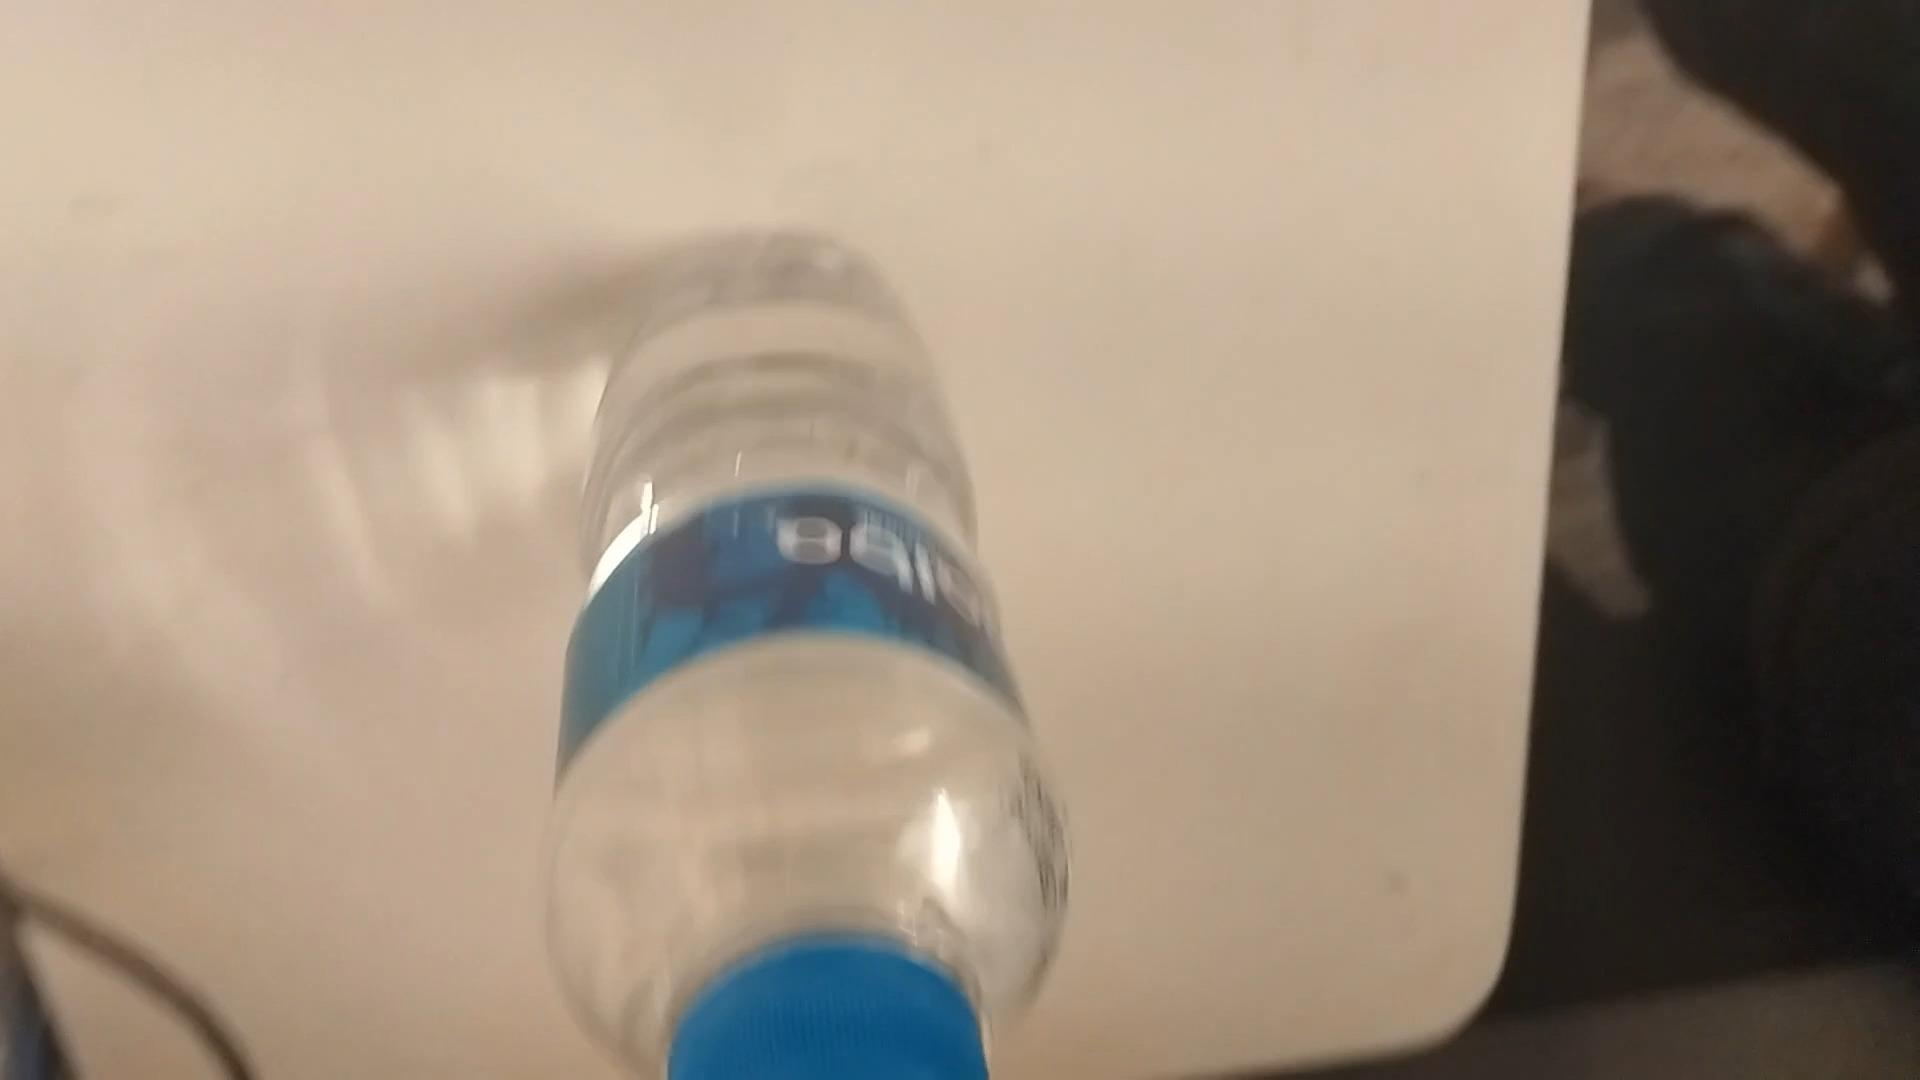agua: (538, 228, 1077, 1080)
